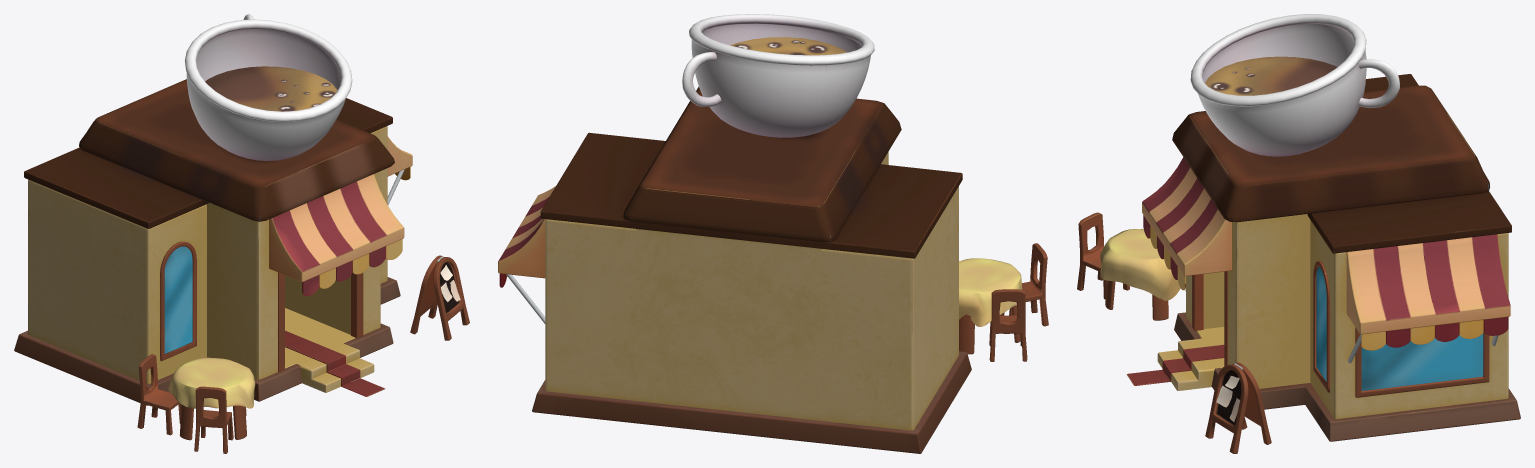
Rendered from building1_lambert1_0.001_lev2.glb.
3 views of the same model, side by side, from view 1: azimuth 30°, elevation 25°; view 2: azimuth 150°, elevation 25°; view 3: azimuth 270°, elevation 25° (orthographic). The views are drawn at different scales.
Visible parts, largest first — view 1: building1_lambert1_0.001_lev2; view 2: building1_lambert1_0.001_lev2; view 3: building1_lambert1_0.001_lev2.
Boxes of the visible parts, bbox=[...] form: building1_lambert1_0.001_lev2: bbox=[14, 14, 469, 453]; building1_lambert1_0.001_lev2: bbox=[498, 14, 1048, 453]; building1_lambert1_0.001_lev2: bbox=[1077, 14, 1520, 453].
Size of the model in its own units: 16.47 by 12.82 by 15.91.
Materials: 1 (1 with a texture image).
